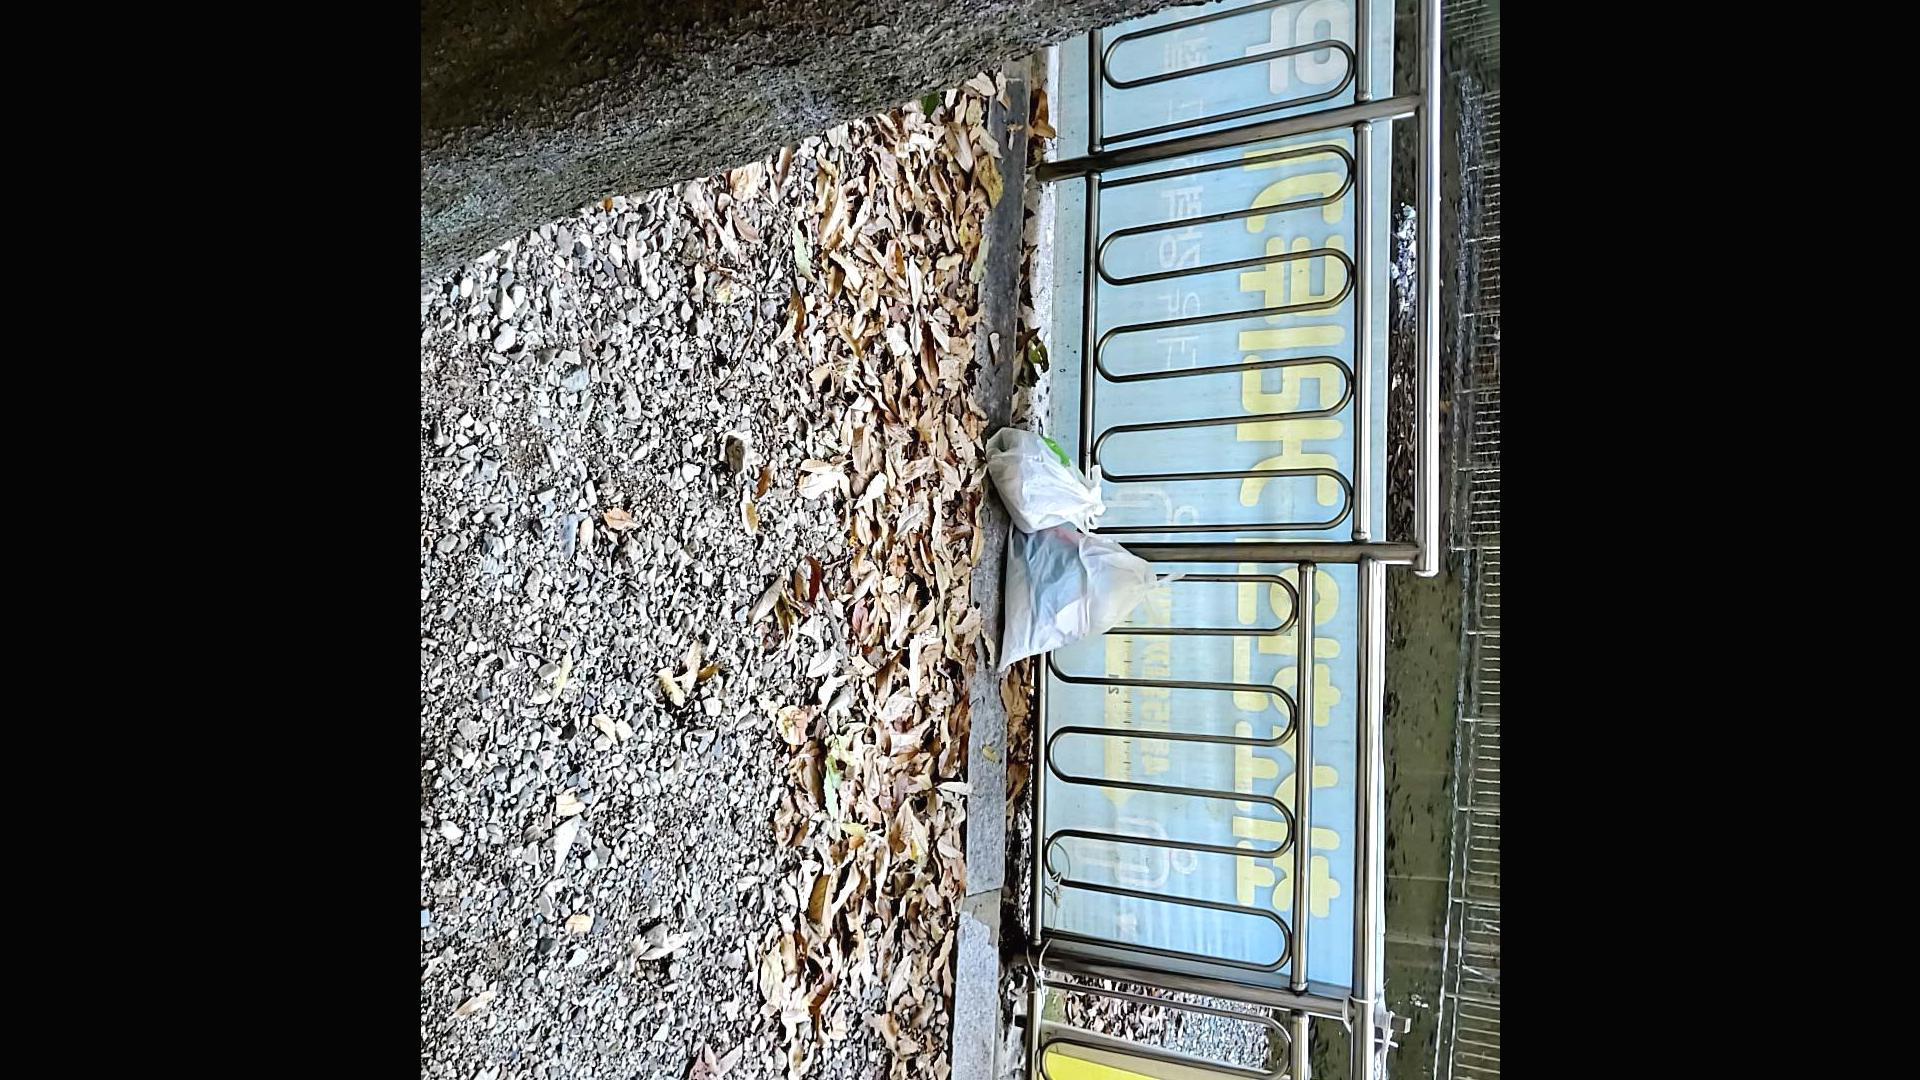white_bag: (997, 517, 1189, 673), (980, 419, 1106, 533)
